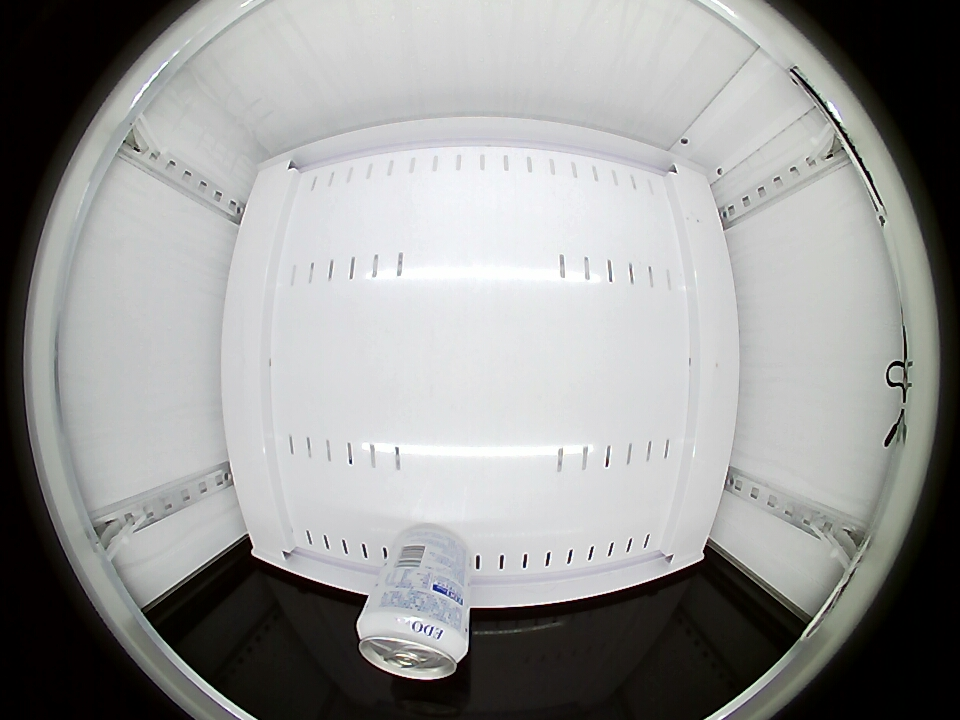rusuanjunqishui: (356, 598, 471, 681)
